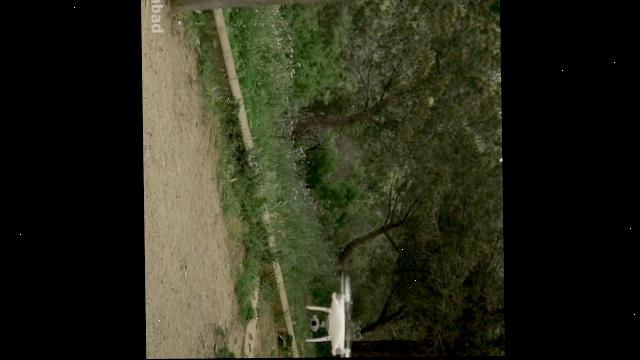drone: (302, 272, 351, 358)
